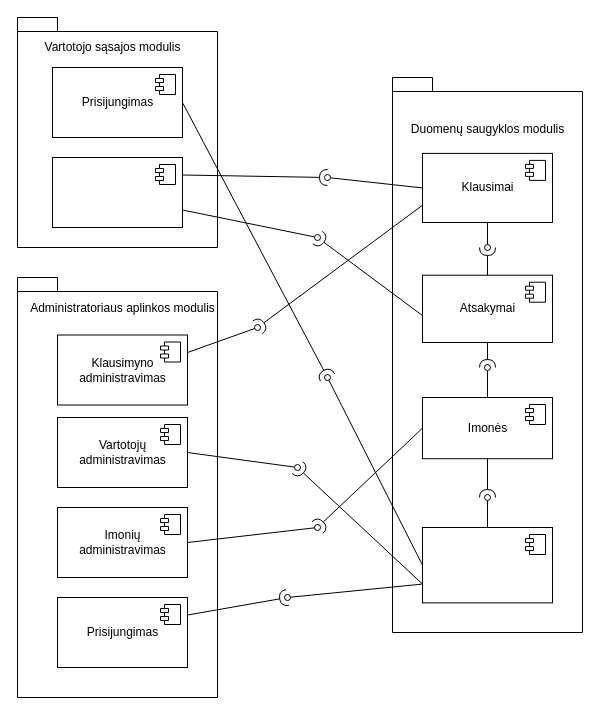
Image size: 610x715. Some labels were removed from this diagram. The centre of each missing label's shape, as x and y in pixels:
"Klausimyno pildymas" goes at point (117, 192).
"Vartotojai" goes at point (487, 564).
